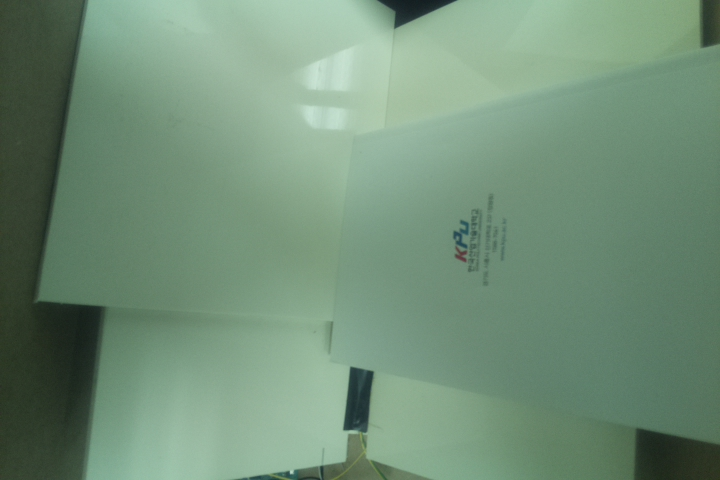book: (324, 41, 720, 453)
